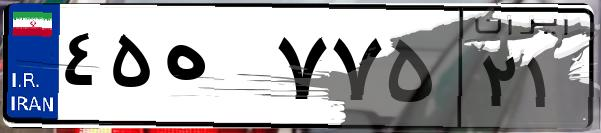1: (525, 38, 570, 115)
2: (475, 38, 525, 113)
4: (57, 26, 110, 100)
5: (385, 28, 445, 110), (110, 28, 158, 98)
7: (270, 28, 330, 110), (330, 28, 385, 110)
ه: (158, 20, 270, 120)
